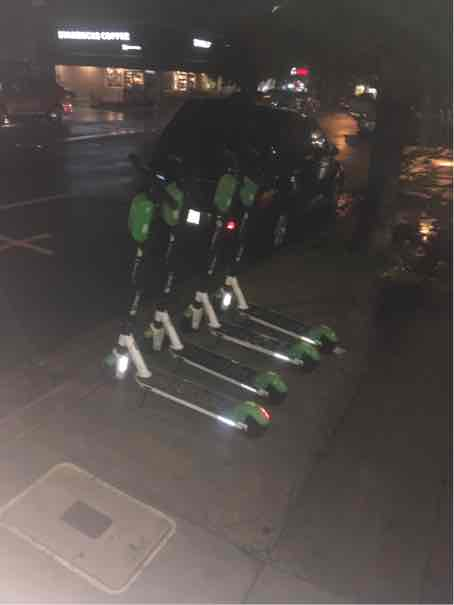too close: (79, 332, 145, 402)
